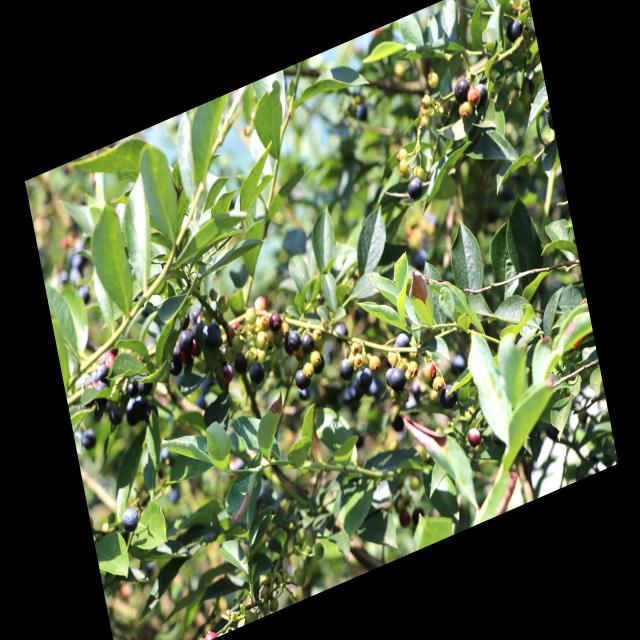blueberry: (383, 362, 408, 396), (246, 356, 269, 391), (200, 319, 224, 352), (436, 380, 460, 412), (119, 503, 142, 536), (353, 364, 374, 393), (176, 326, 196, 356), (293, 364, 313, 393), (452, 76, 472, 105), (405, 174, 425, 202), (504, 17, 524, 44), (465, 423, 483, 452), (136, 370, 154, 398), (338, 356, 356, 384), (392, 329, 412, 354), (167, 353, 185, 380), (298, 329, 316, 356), (232, 348, 249, 376), (107, 402, 125, 428), (310, 351, 328, 377), (286, 327, 303, 354), (81, 426, 99, 451), (449, 352, 467, 377), (332, 320, 349, 346), (76, 282, 92, 308), (475, 80, 490, 106), (95, 361, 112, 381)
blueberry-halfripe: (421, 358, 439, 383), (466, 84, 482, 108), (253, 292, 270, 314), (221, 362, 236, 382), (227, 319, 242, 337)
blueberry-unripe: (456, 98, 474, 122), (253, 327, 270, 352), (430, 373, 446, 396), (243, 303, 258, 326), (230, 332, 245, 354), (386, 345, 401, 367), (223, 343, 237, 365), (311, 325, 325, 347), (368, 352, 382, 374), (301, 358, 315, 379), (405, 358, 419, 379), (256, 312, 270, 332), (426, 70, 440, 90), (419, 91, 432, 110), (396, 144, 409, 163), (419, 112, 431, 132), (309, 349, 322, 367), (398, 156, 410, 175), (278, 320, 290, 338), (412, 164, 424, 181), (350, 338, 361, 356)
